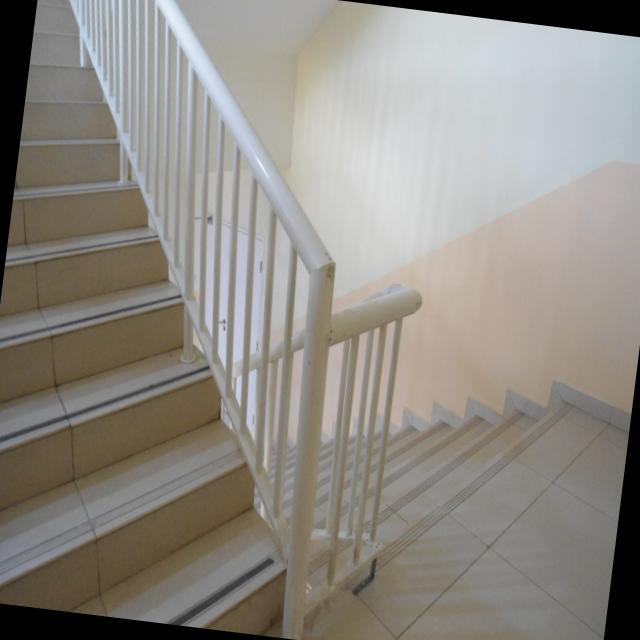railing: (0, 0, 366, 620), (182, 274, 420, 594)
stairs: (0, 0, 363, 638), (197, 358, 579, 620)
